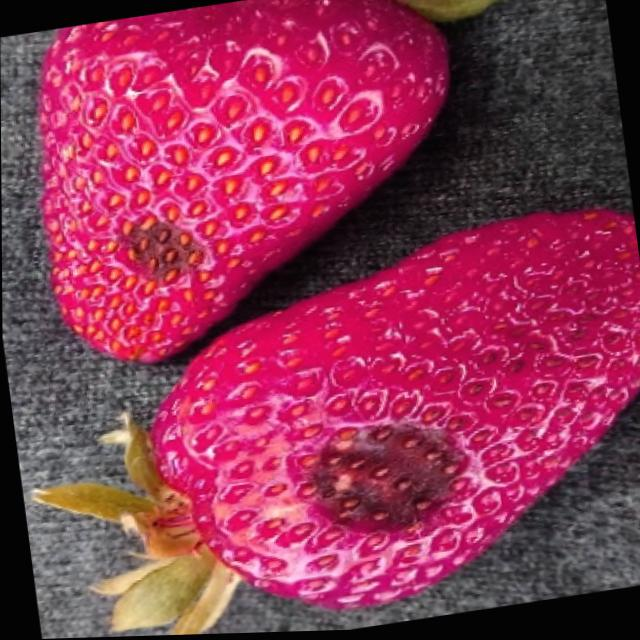Anthracnose Fruit Rot: (293, 415, 476, 542), (107, 212, 215, 292)
